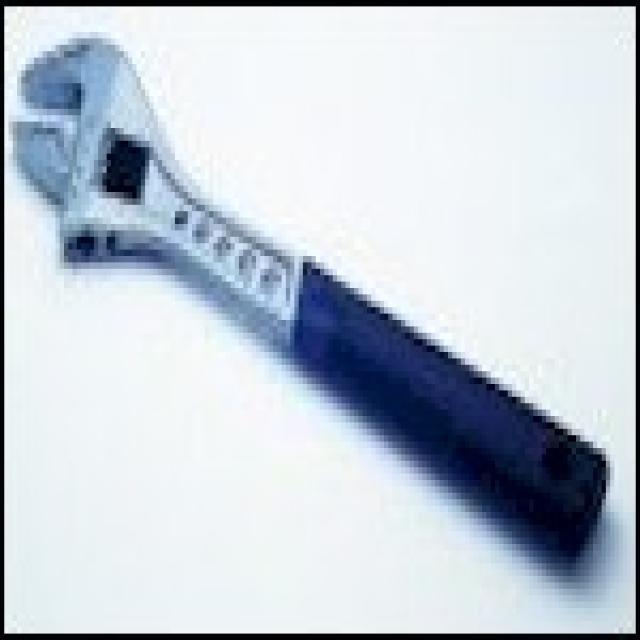wrench: (0, 0, 379, 390)
